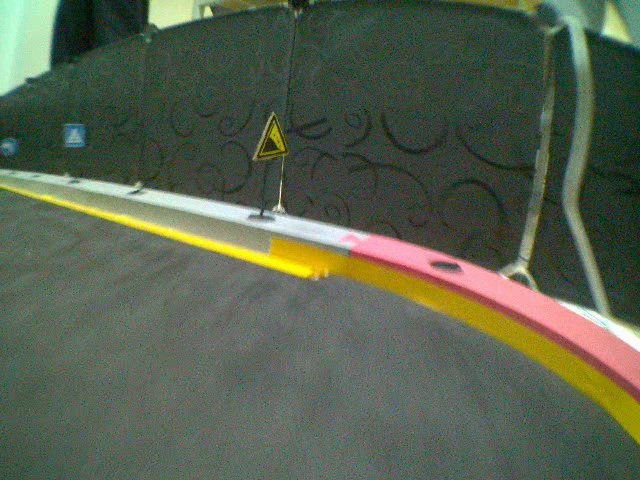crossing: (64, 122, 87, 147)
fast: (249, 112, 291, 158)
